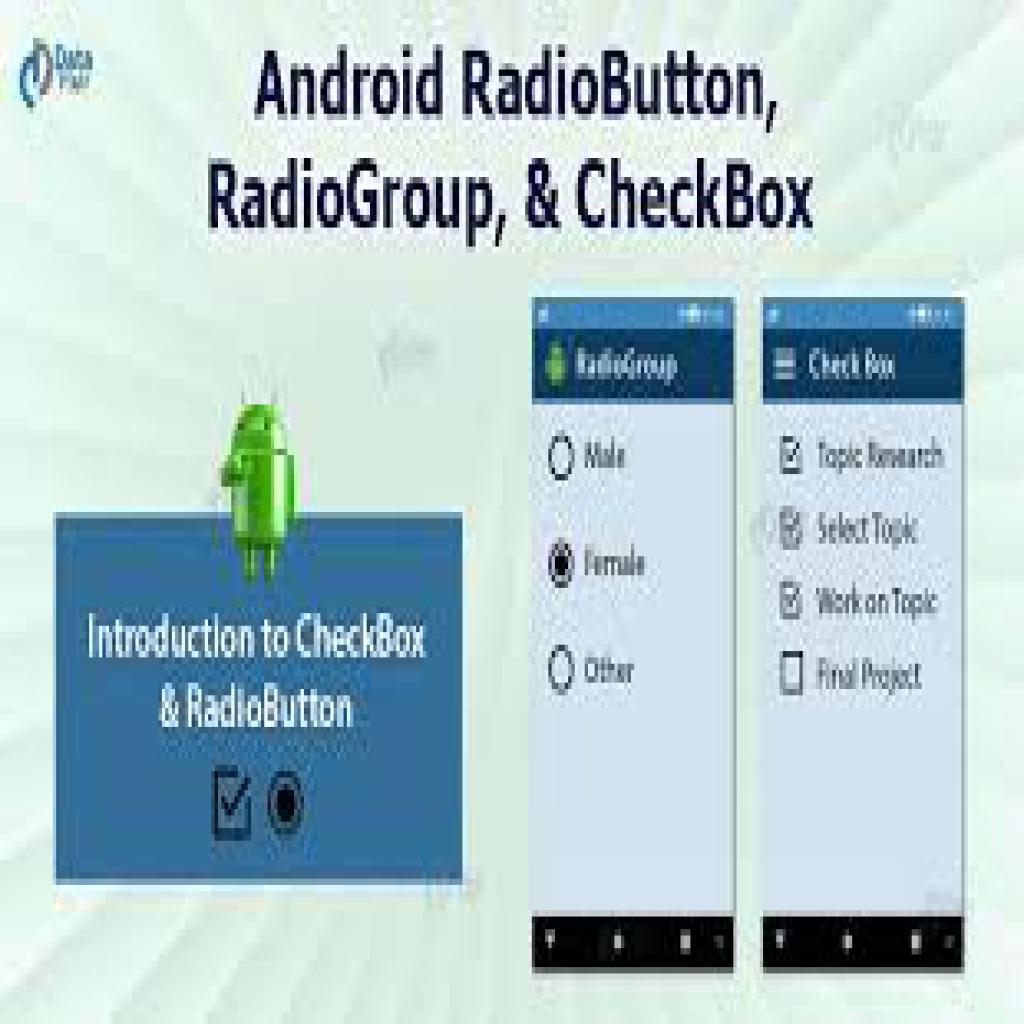checkbox: (779, 651, 804, 698), (781, 507, 803, 553), (781, 437, 806, 476), (781, 582, 804, 620)
label: (816, 439, 950, 476), (813, 655, 928, 698), (818, 581, 942, 620), (820, 509, 922, 548), (581, 538, 651, 581), (583, 646, 640, 689), (583, 438, 630, 475)
radio: (546, 642, 579, 698), (548, 537, 577, 593), (550, 430, 578, 482)
